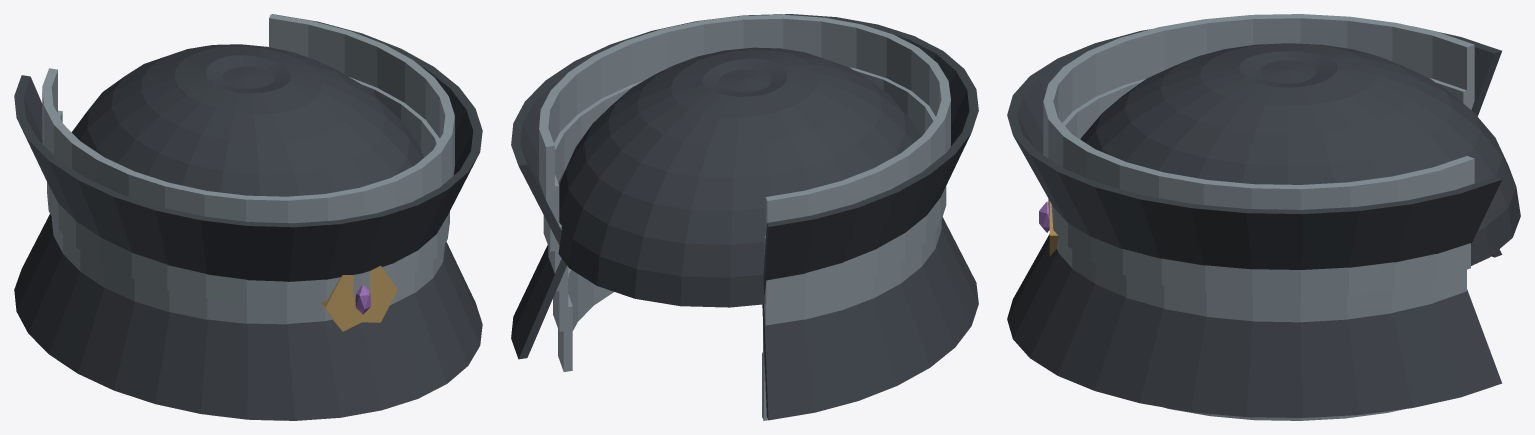
The picture shows the model from 3 angles, left to right: view 1: azimuth 30°, elevation 25°; view 2: azimuth 150°, elevation 25°; view 3: azimuth 270°, elevation 25°; orthographic projection. The views are drawn at different scales.
Parts seen in each view (by area): view 1: TV-104 Scale Warden; view 2: TV-104 Scale Warden; view 3: TV-104 Scale Warden.
Boxes of the visible parts, x1=… form: TV-104 Scale Warden: x1=14, y1=14, x2=482, y2=420; TV-104 Scale Warden: x1=511, y1=14, x2=978, y2=420; TV-104 Scale Warden: x1=1007, y1=14, x2=1520, y2=420.
Bounding box in the file's own units: 0.3745 × 0.2418 × 0.4109.
